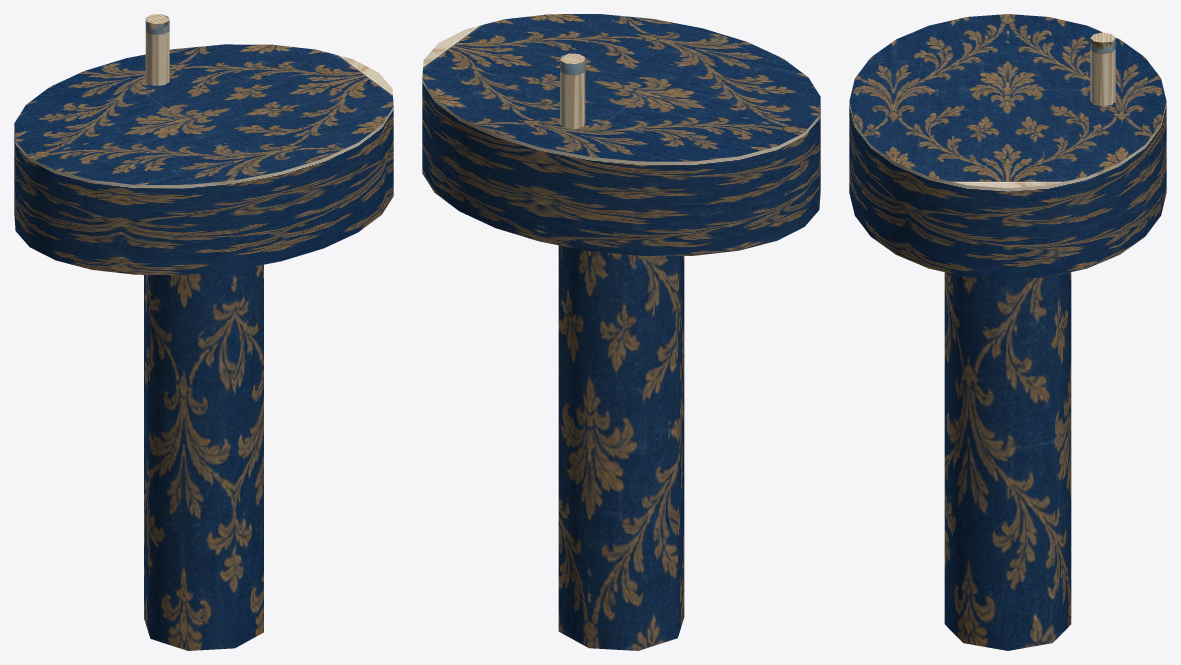
File: basin.gltf
The picture shows the model from 3 angles, left to right: view 1: azimuth 30°, elevation 25°; view 2: azimuth 150°, elevation 25°; view 3: azimuth 270°, elevation 25°; orthographic projection. The views are drawn at different scales.
Parts seen in each view (by area): view 1: kit:0:furniture:marble:, kit:0:furniture:gold:; view 2: kit:0:furniture:marble:, kit:0:furniture:gold:; view 3: kit:0:furniture:marble:, kit:0:furniture:gold:.
Boxes of the visible parts, <box> form: kit:0:furniture:marble:: <box>14,44,393,650</box>; kit:0:furniture:gold:: <box>145,14,169,85</box>; kit:0:furniture:marble:: <box>422,14,820,650</box>; kit:0:furniture:gold:: <box>560,53,585,128</box>; kit:0:furniture:marble:: <box>849,14,1166,650</box>; kit:0:furniture:gold:: <box>1090,32,1115,106</box>.
Size of the model in its own units: 0.65 by 1.02 by 0.5.
2 materials, 2 textured.
